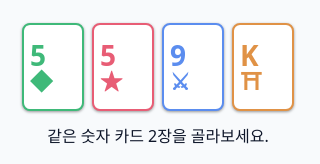
Scenario: PairPractice › celebrates when two same-rank cards are selected
This screenshot has width=320, height=164.
What coordinates should you click on to do the following:
click the button named "JADE 5"
I would click on:
 (53, 67)
Its box is [22, 23, 84, 111].
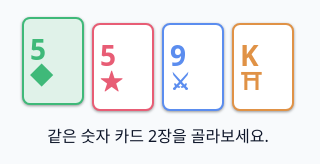
What coordinates should you click on to do the following:
click the button named "STAR 5"
I would click on:
 (123, 67)
Its box is [92, 23, 154, 111].
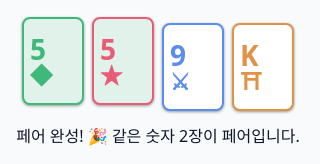
Check: the message shows "페어 완성", box [16, 125, 300, 147]
